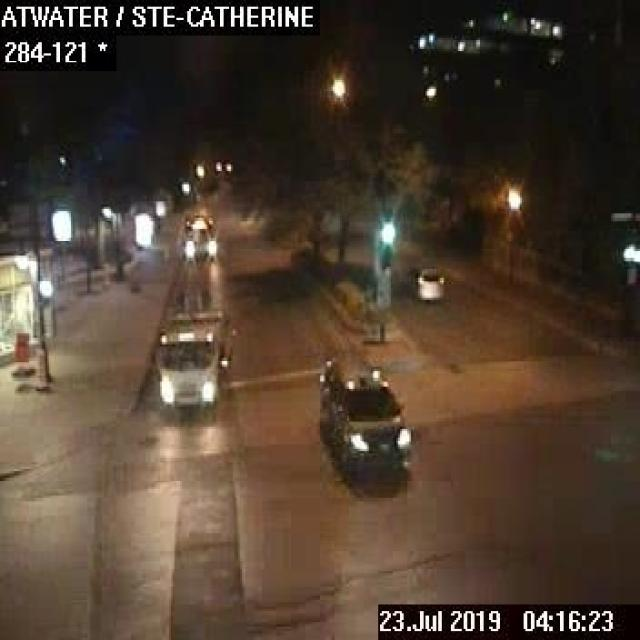bus: (180, 211, 216, 260)
vehicle: (318, 352, 411, 482), (153, 309, 220, 407), (404, 260, 446, 300)
